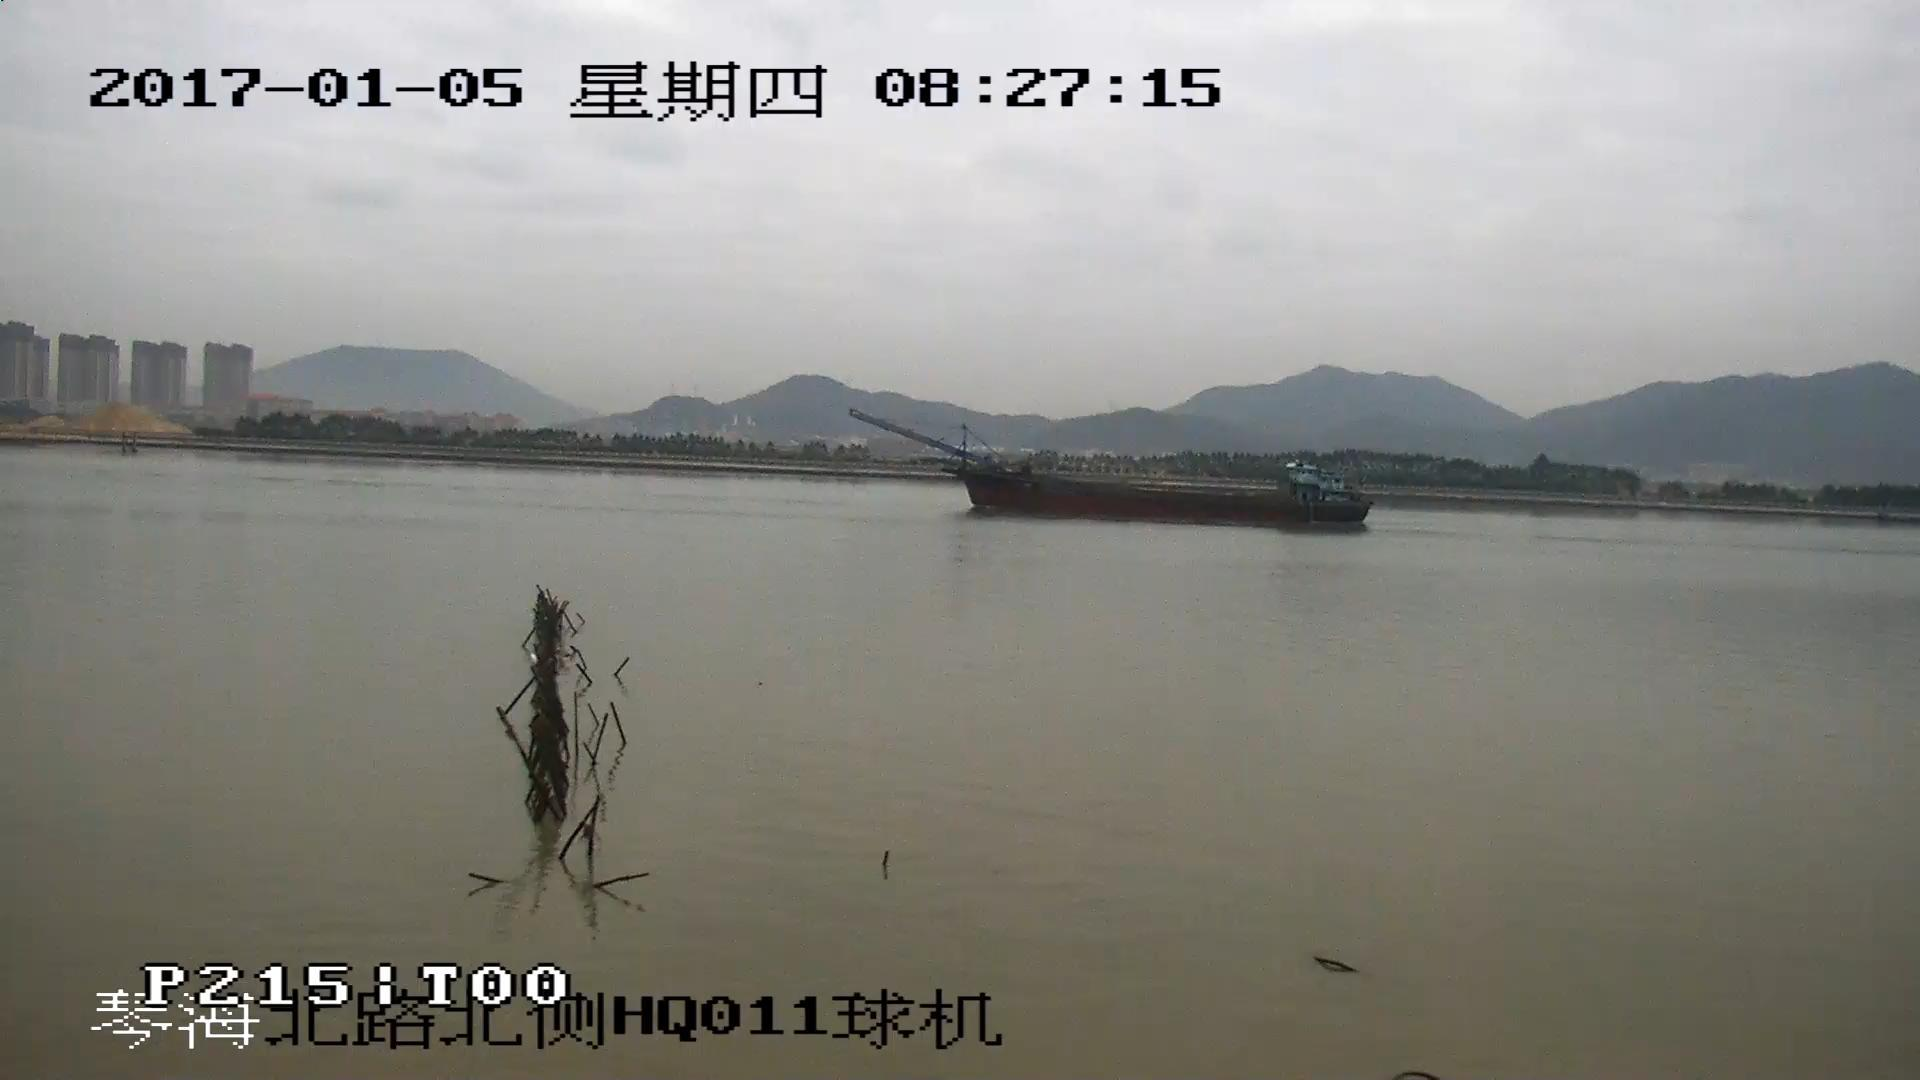Ship: (851, 411, 1367, 525)
